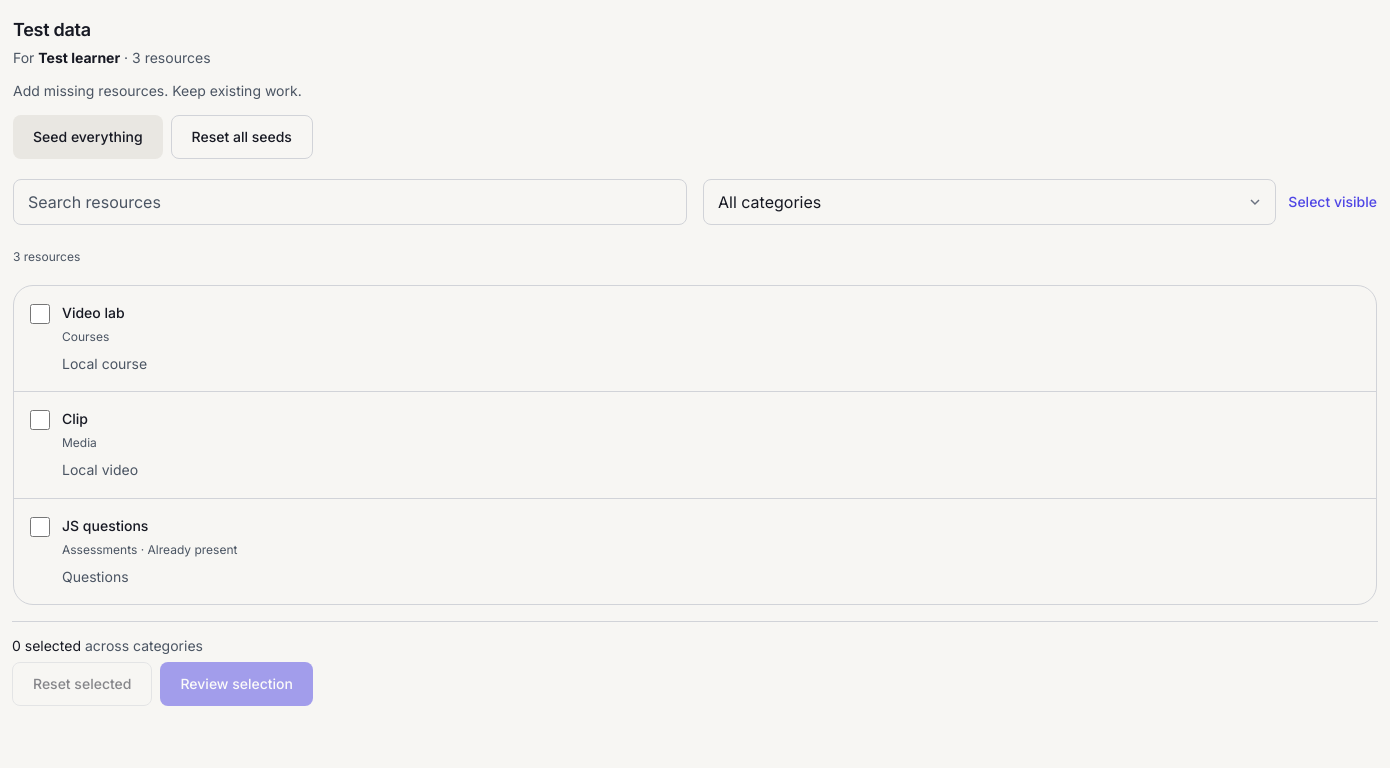
Test: Developer seed picker › retains selections across categories and reviews dependencies before writing
The image size is (1390, 768).
Select "Courses" in the dropdown named "Resource category" at (990, 202), box [703,179,1276,225]
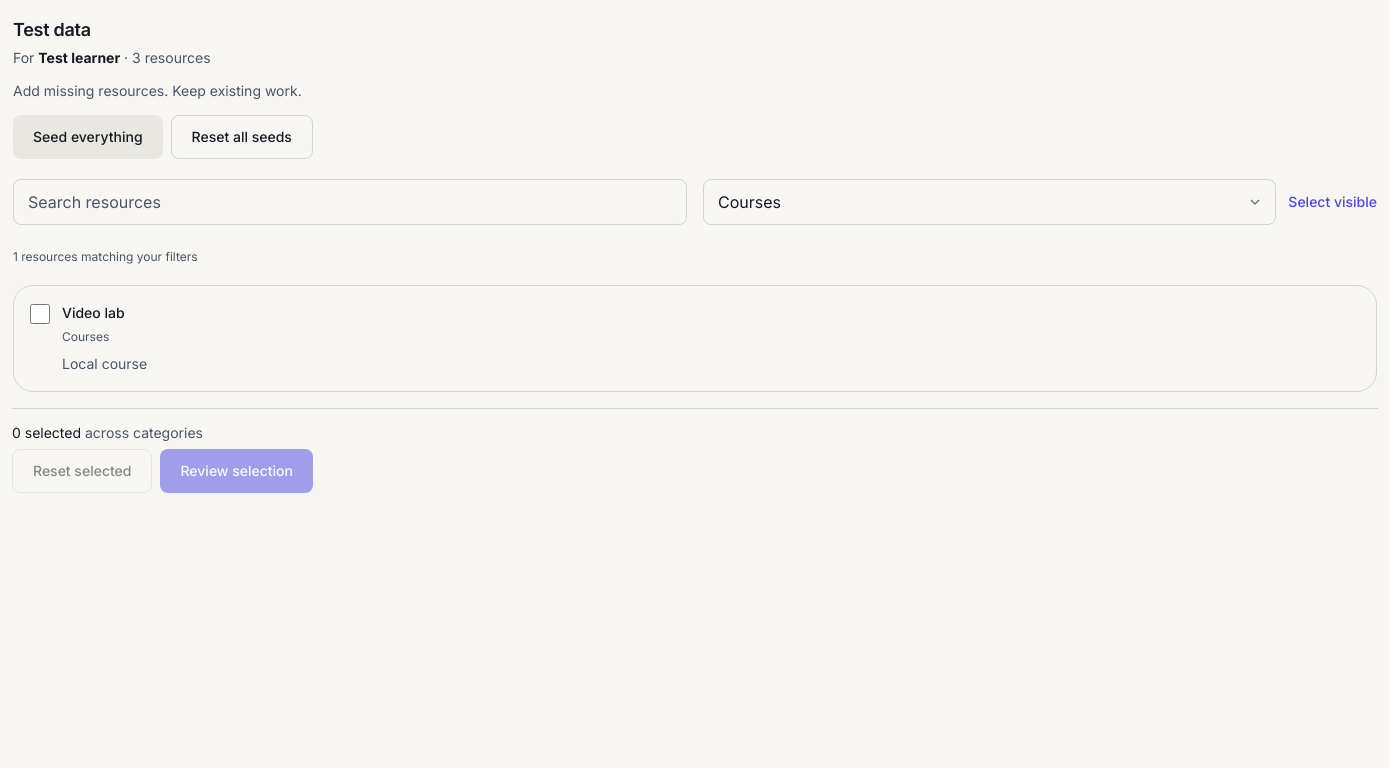
Click the checkbox labelled "Video lab Courses Local course" at (40, 314), box [30,304,50,324]
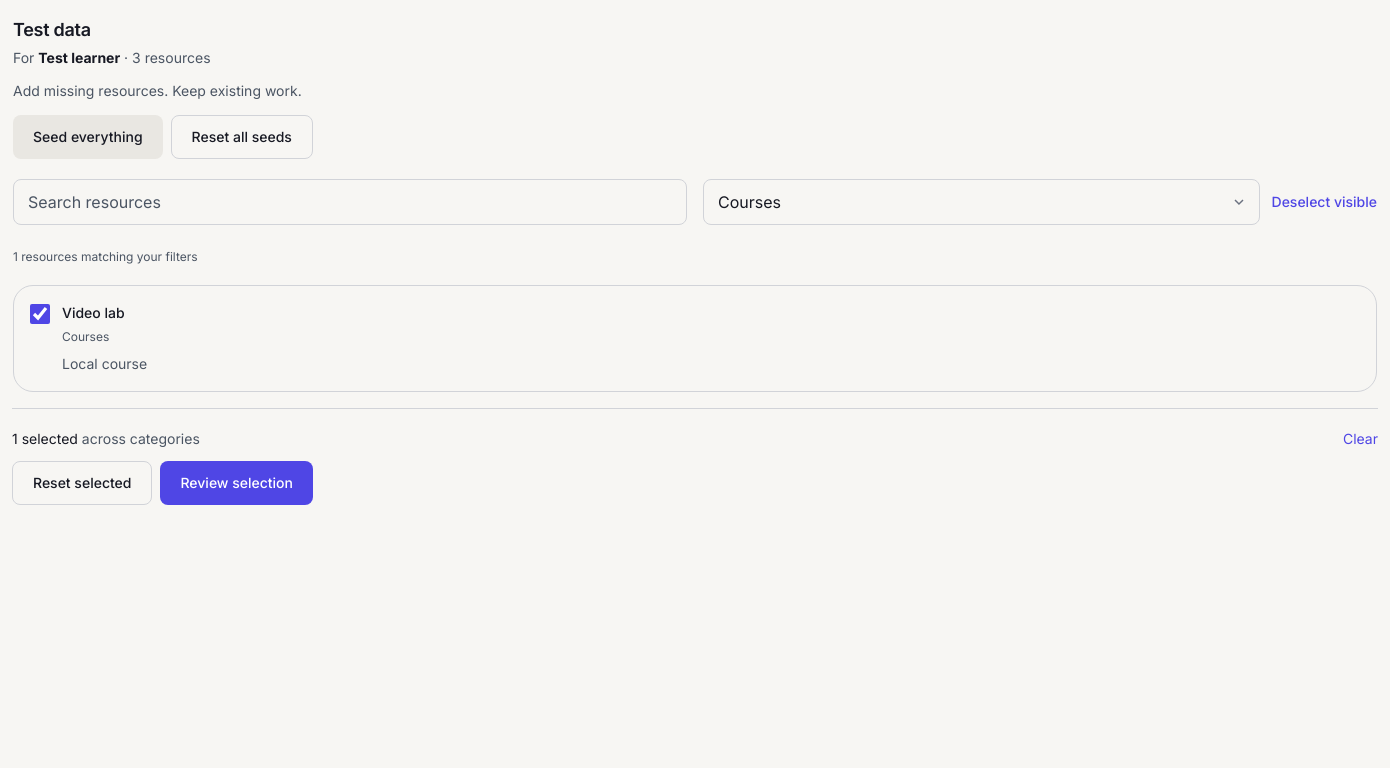
Select "Assessments" in the dropdown named "Resource category" at (981, 202), box [703,179,1260,225]
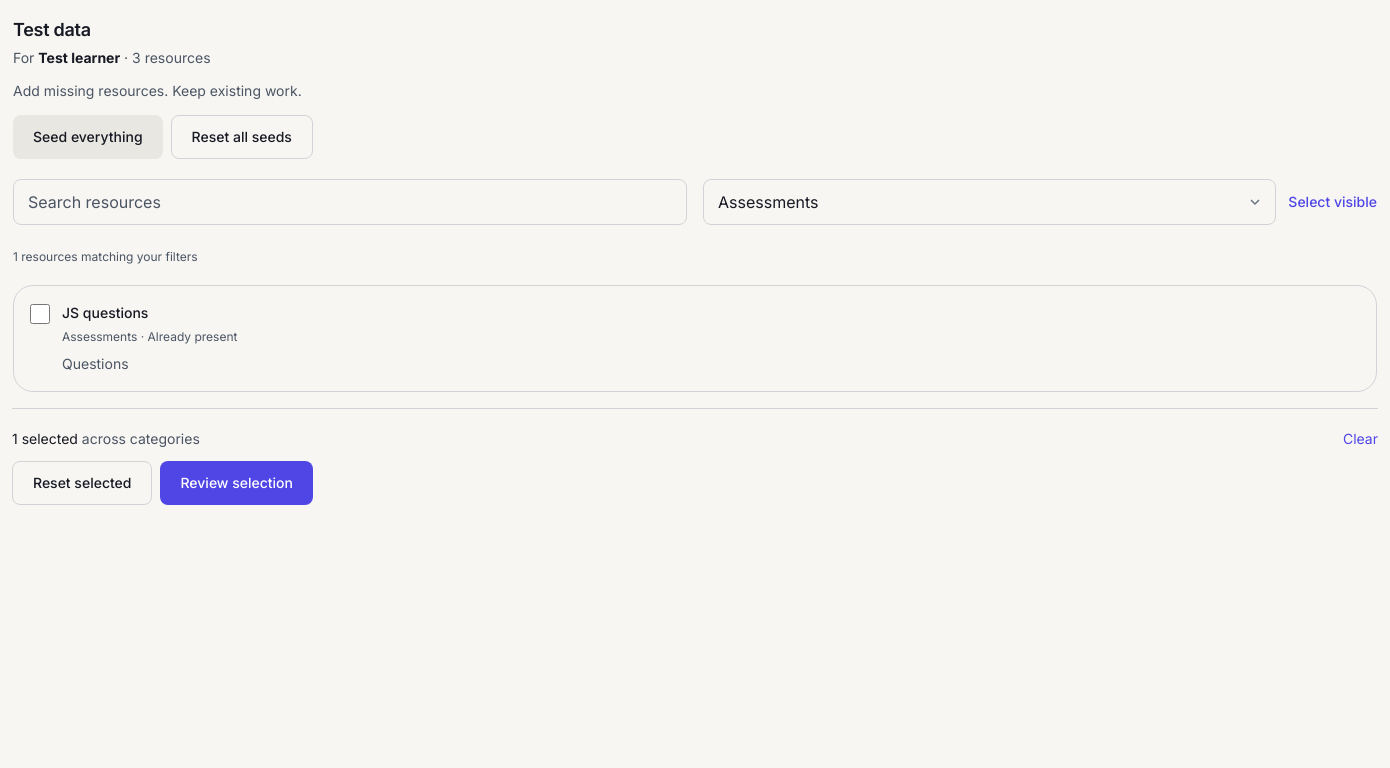
Click the checkbox labelled "JS questions Assessments · Already present Questions" at (40, 314), box [30,304,50,324]
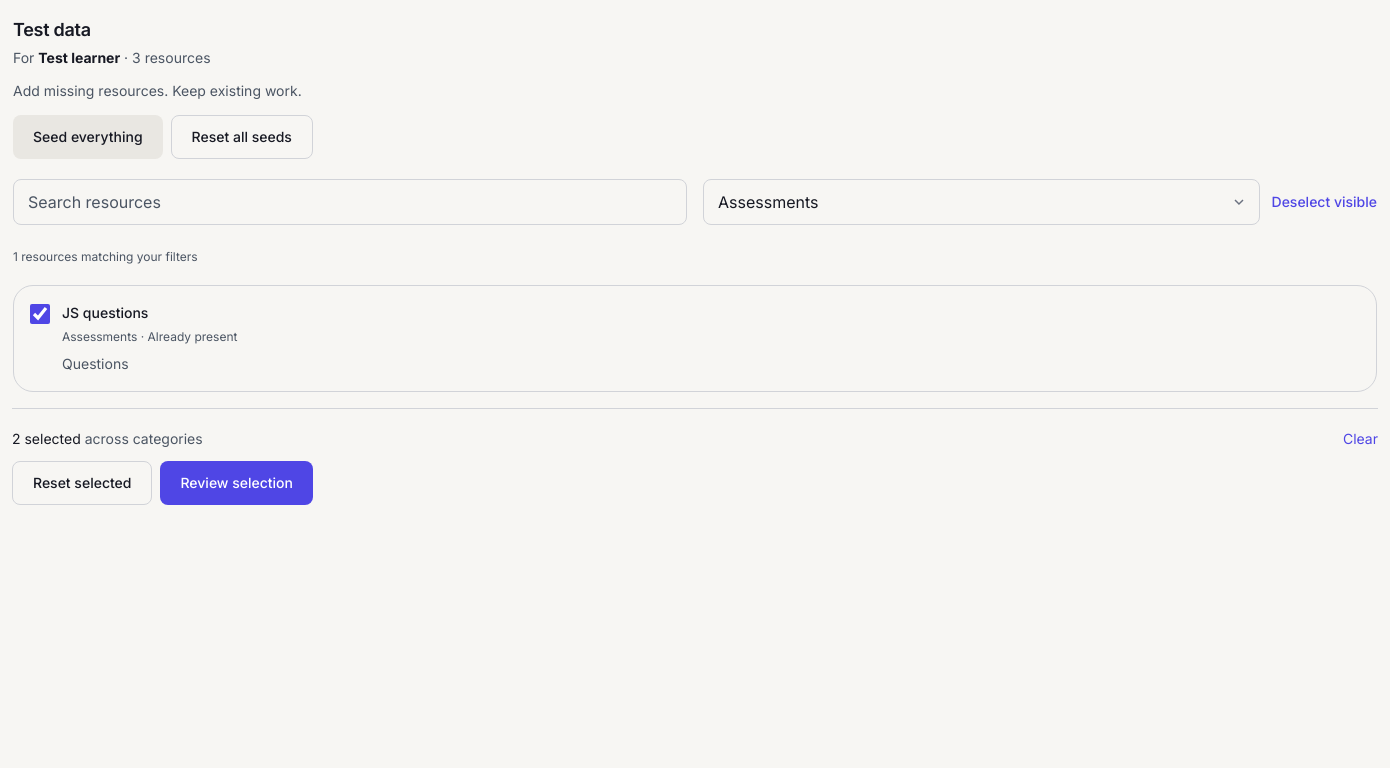
Click the button "Review selection" at (237, 483), box [160,461,313,505]
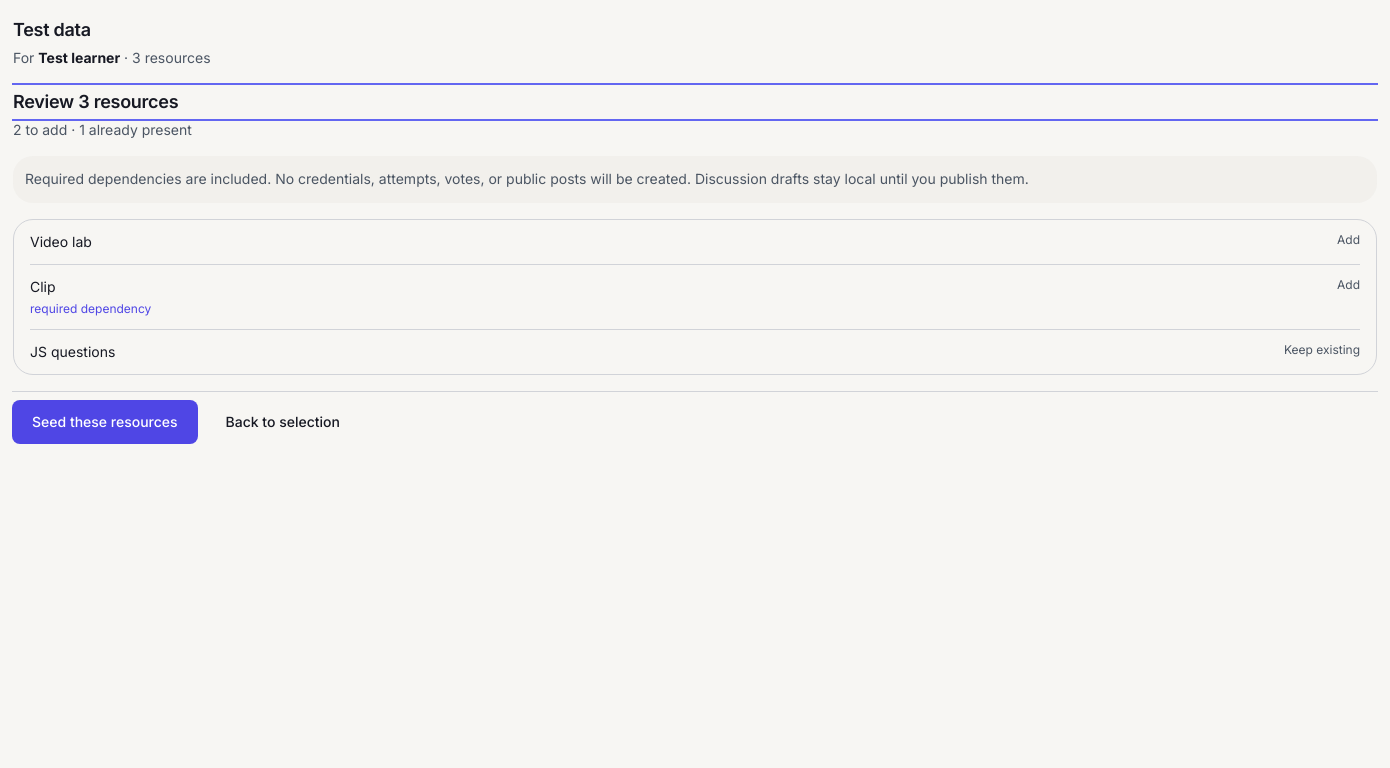
Expected: the text "required dependency" is shown, [30,301,151,317]
